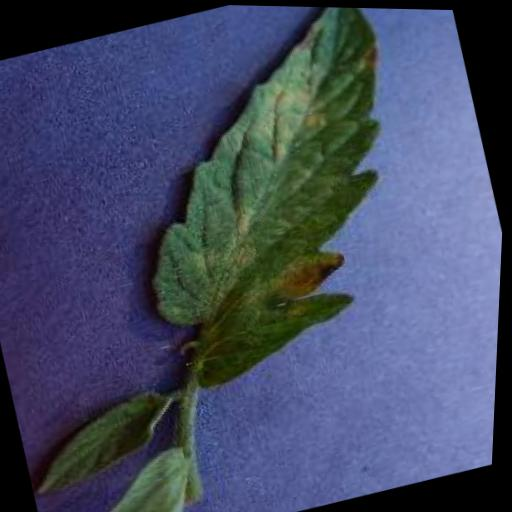Leaf Mold: (85, 2, 456, 398)
